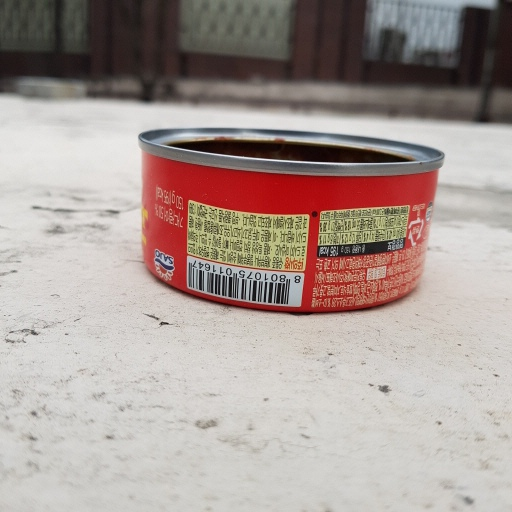Metal_1: (134, 122, 446, 313)
